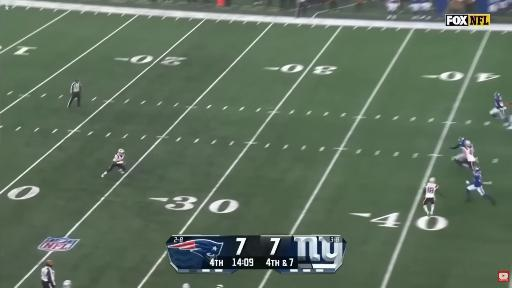Helmet: (464, 140, 472, 147), (458, 137, 465, 143), (495, 92, 500, 98), (474, 167, 480, 172), (429, 178, 435, 182), (458, 137, 464, 141), (118, 149, 124, 153)
Jersey: (424, 182, 439, 199), (464, 145, 477, 162), (451, 137, 466, 149), (472, 171, 482, 187), (495, 96, 504, 109), (113, 154, 124, 163)
Player: (467, 167, 495, 204), (450, 137, 476, 167), (102, 149, 125, 177), (490, 92, 509, 125), (423, 178, 438, 216), (507, 115, 511, 129)
